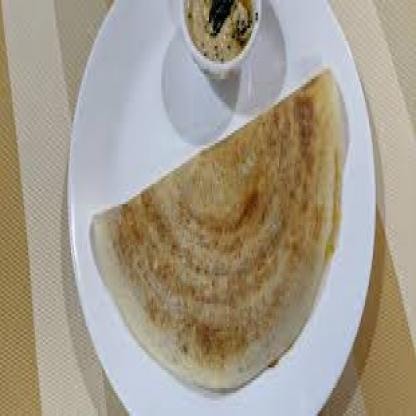dosa: (92, 69, 342, 389)
